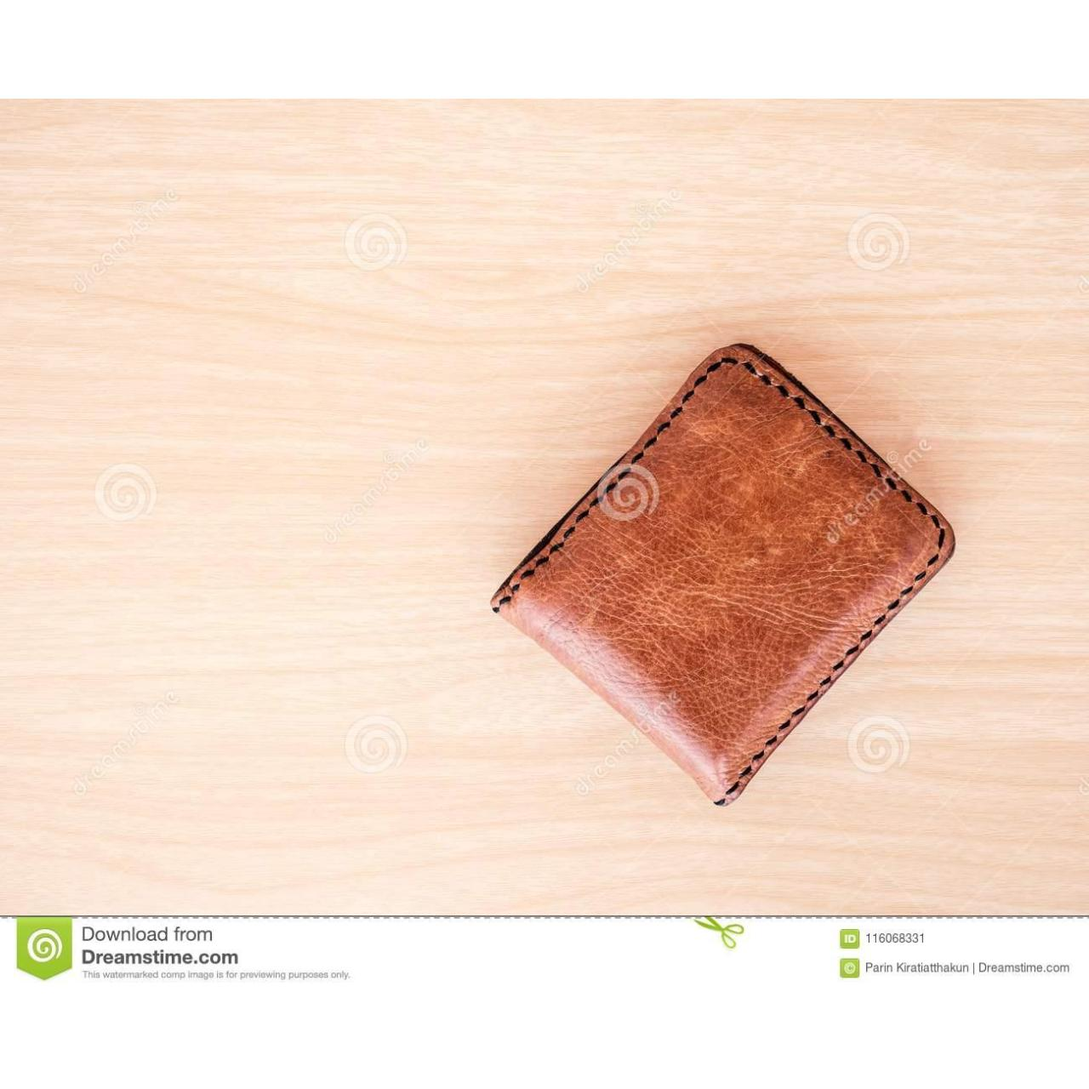wallet: (511, 285, 1042, 953)
